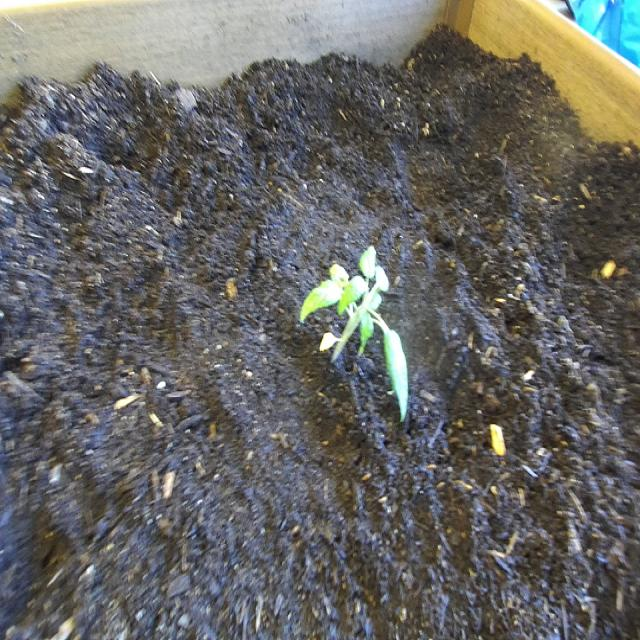Healthy: (296, 238, 418, 432)
